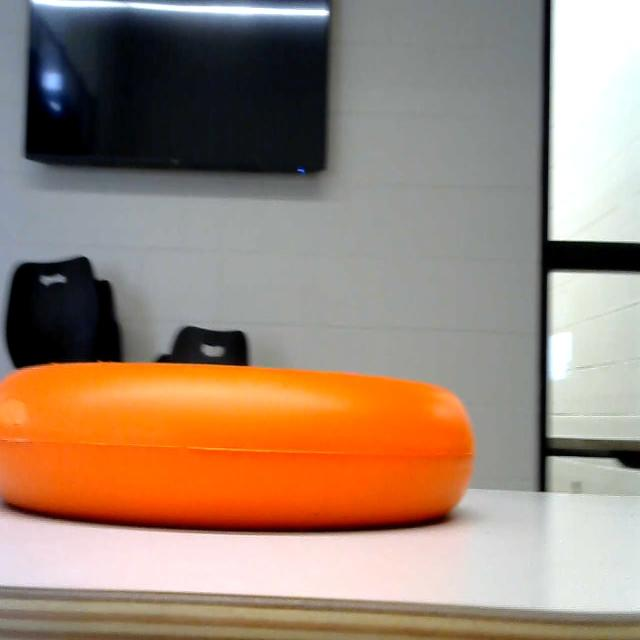note: (0, 357, 484, 528)
